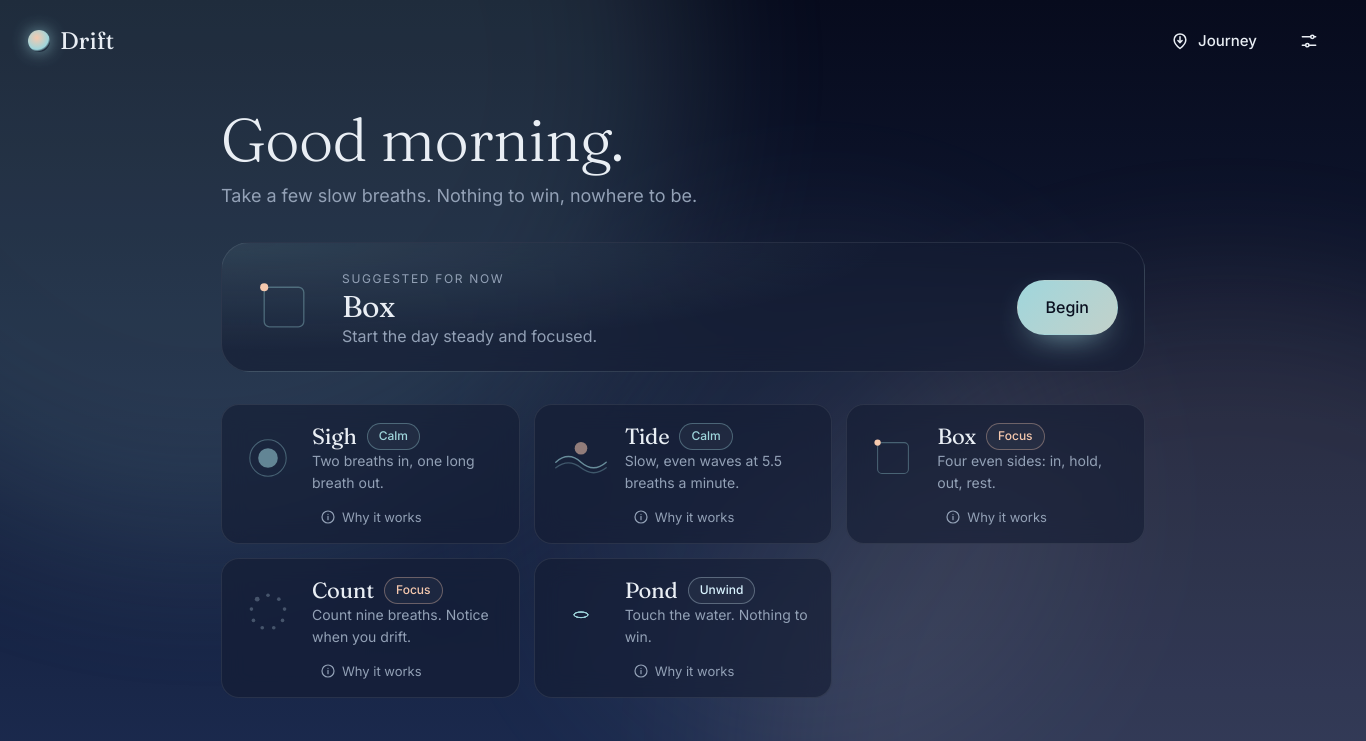
home › “Why it works” reveals the research with real links
Click the 1st button "Why it works" at point(371, 517), box [312, 503, 430, 531]
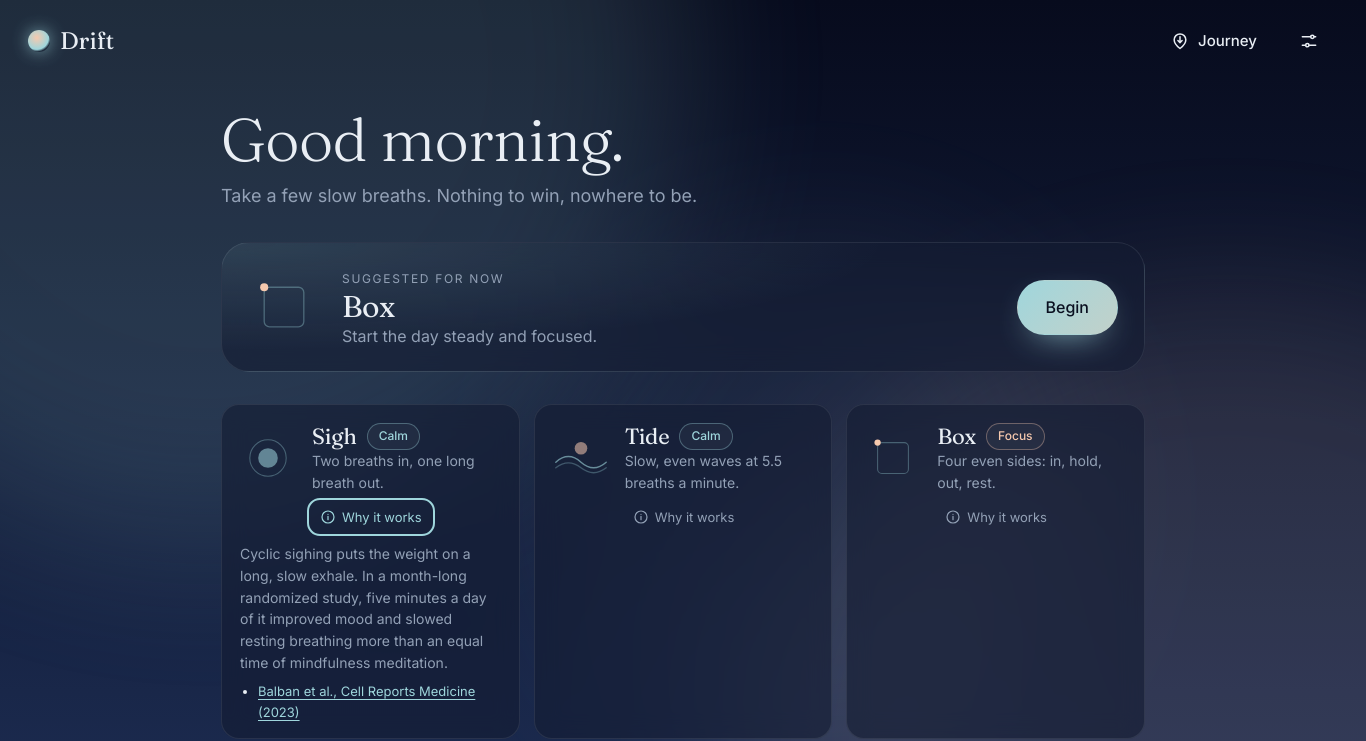
expect the 1st button "Why it works" is expanded: met, box [312, 503, 430, 531]
